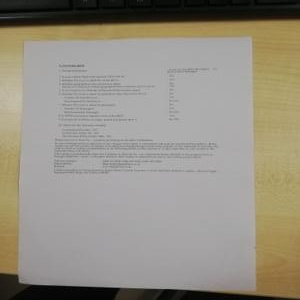text: (56, 62, 222, 143), (51, 143, 223, 176)
